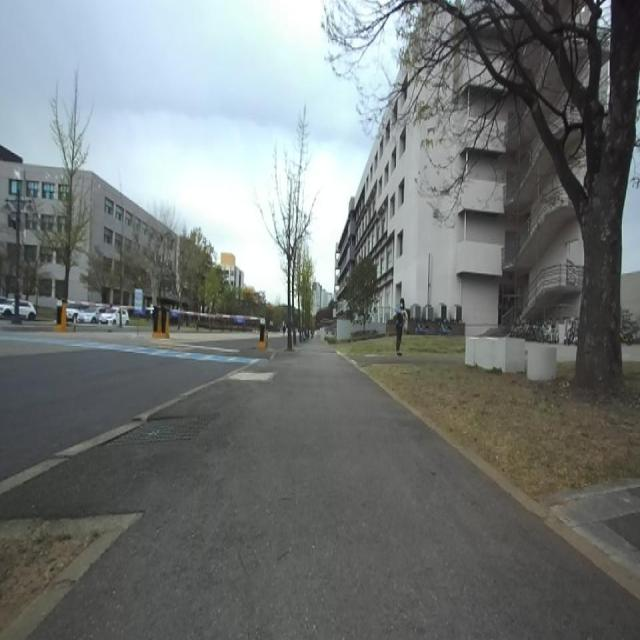sidewalk: (0, 341, 640, 639), (0, 378, 224, 495), (229, 371, 276, 381)
